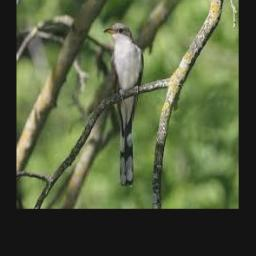Cuckoo: (103, 23, 143, 186)
